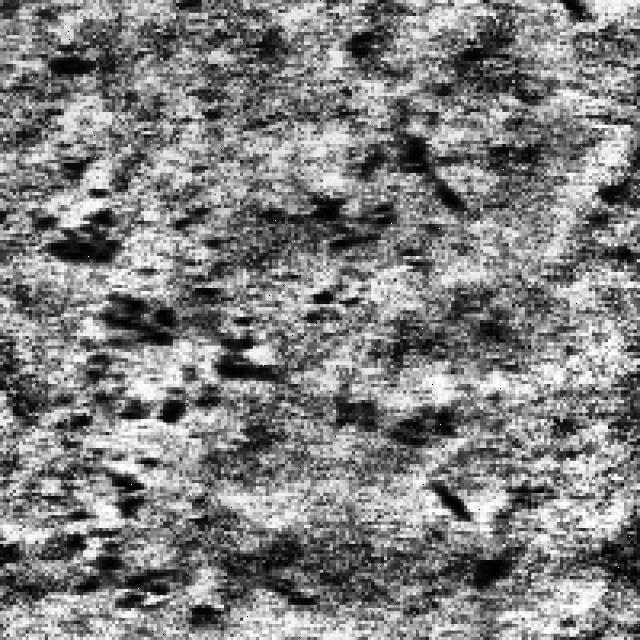Crazing: (54, 118, 272, 618), (308, 115, 487, 474)
